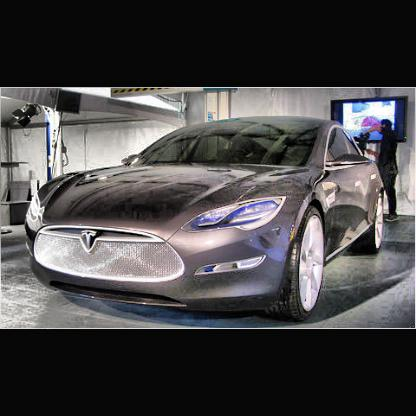Tesla Model S Sedan 2012: (25, 119, 386, 317)
